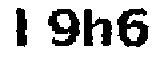6: (118, 6, 153, 53)
9: (43, 7, 81, 50)
h: (82, 7, 114, 52)
l: (9, 2, 37, 51)
